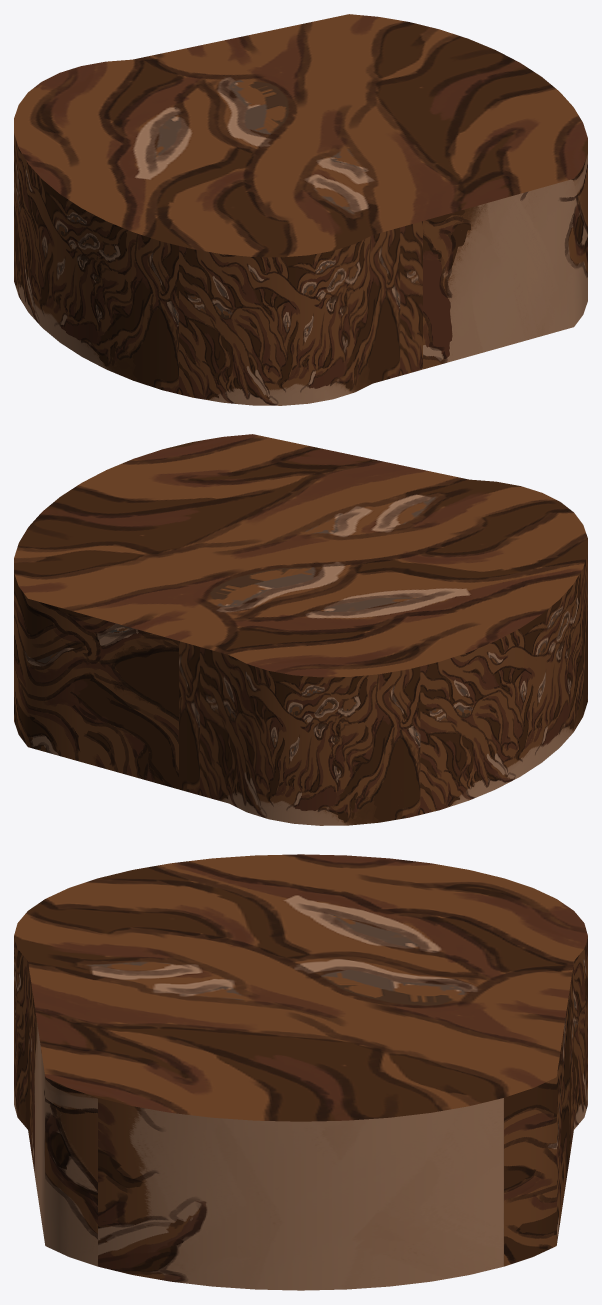
File: Terrier v1.glb
The picture shows the model from 3 angles, top to bottom: view 1: azimuth 30°, elevation 25°; view 2: azimuth 150°, elevation 25°; view 3: azimuth 270°, elevation 25°; orthographic projection. The views are drawn at different scales.
Visible parts, largest first — view 1: Cylinder; view 2: Cylinder; view 3: Cylinder.
Boxes of the visible parts, x1,y1,x2,y2 form: Cylinder: [14, 14, 587, 405]; Cylinder: [14, 434, 587, 825]; Cylinder: [14, 854, 587, 1290].
Size of the model in its own units: 9.63 by 2.84 by 8.74.
1 material, 1 textured.
